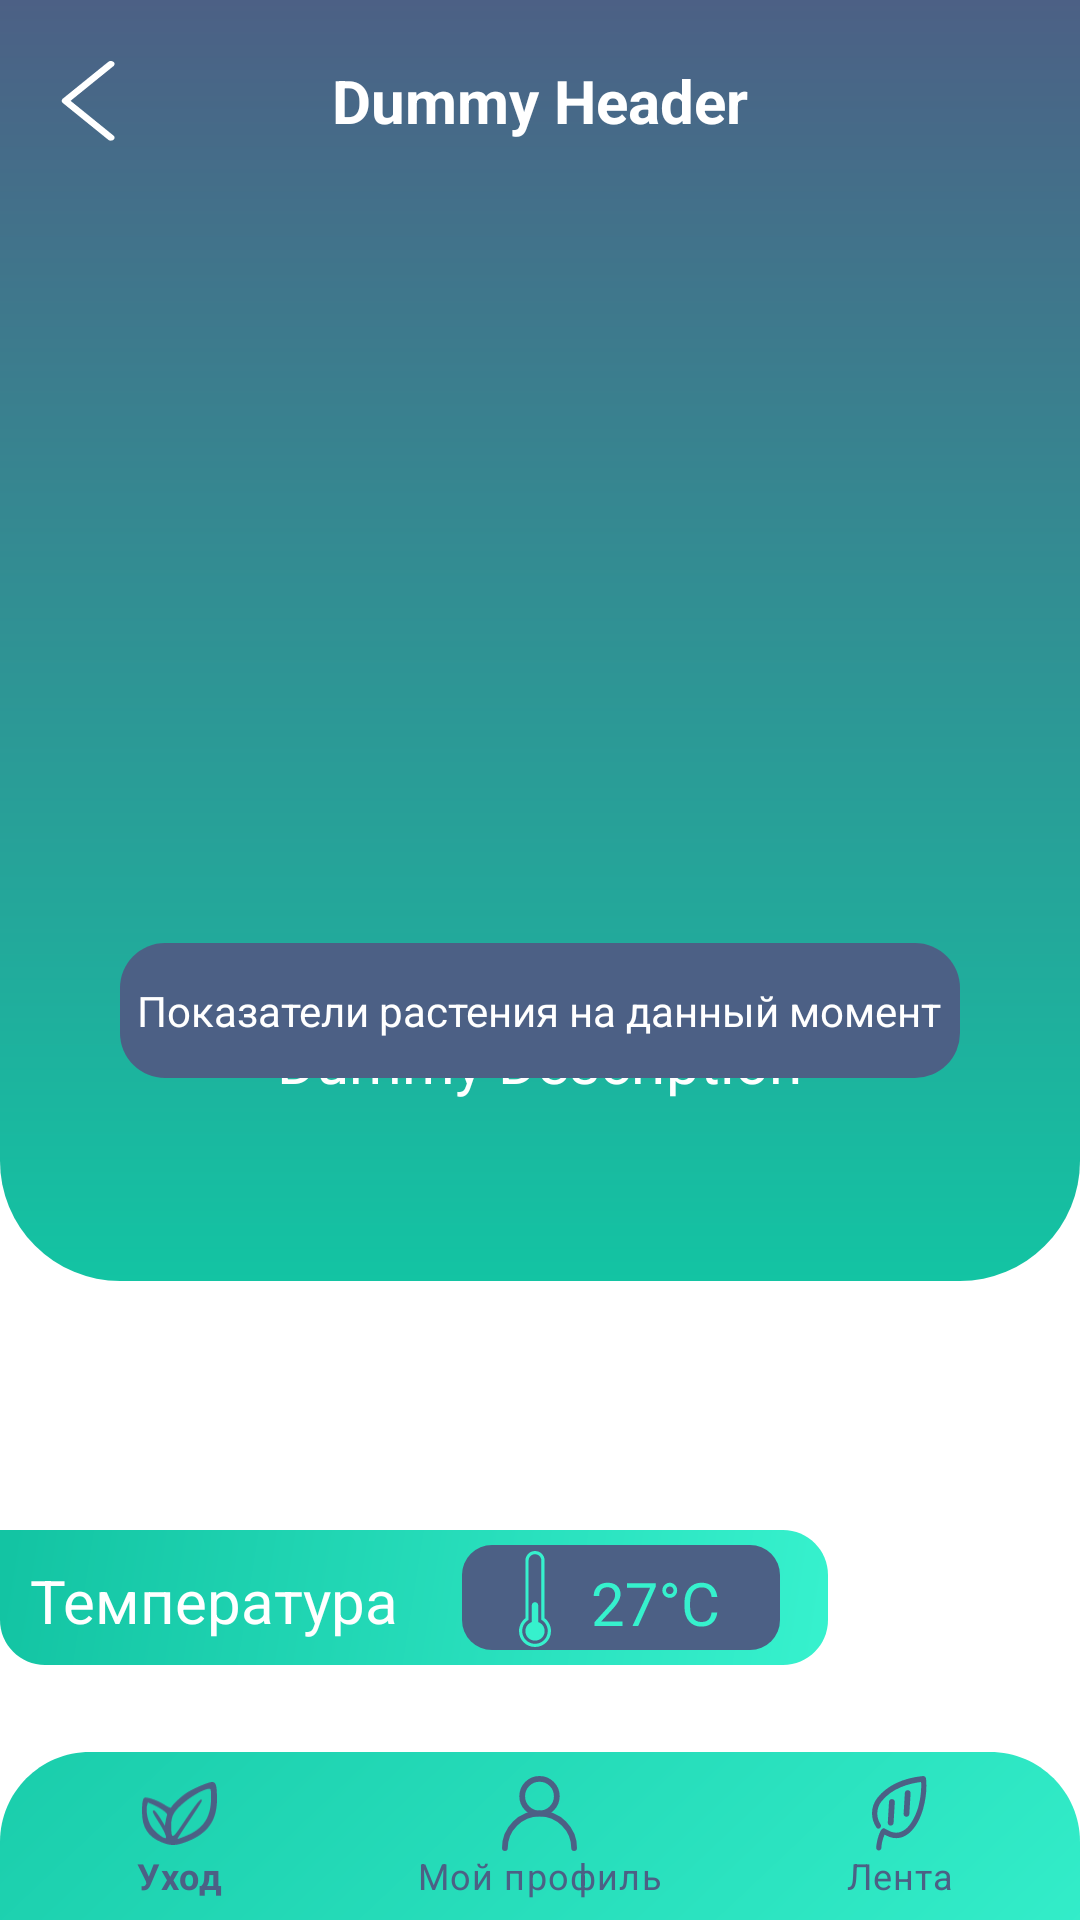

Where to tap for icons on this 1080px×1920px app screen, as point (x, y):
backtrhrow: point (88, 101)
